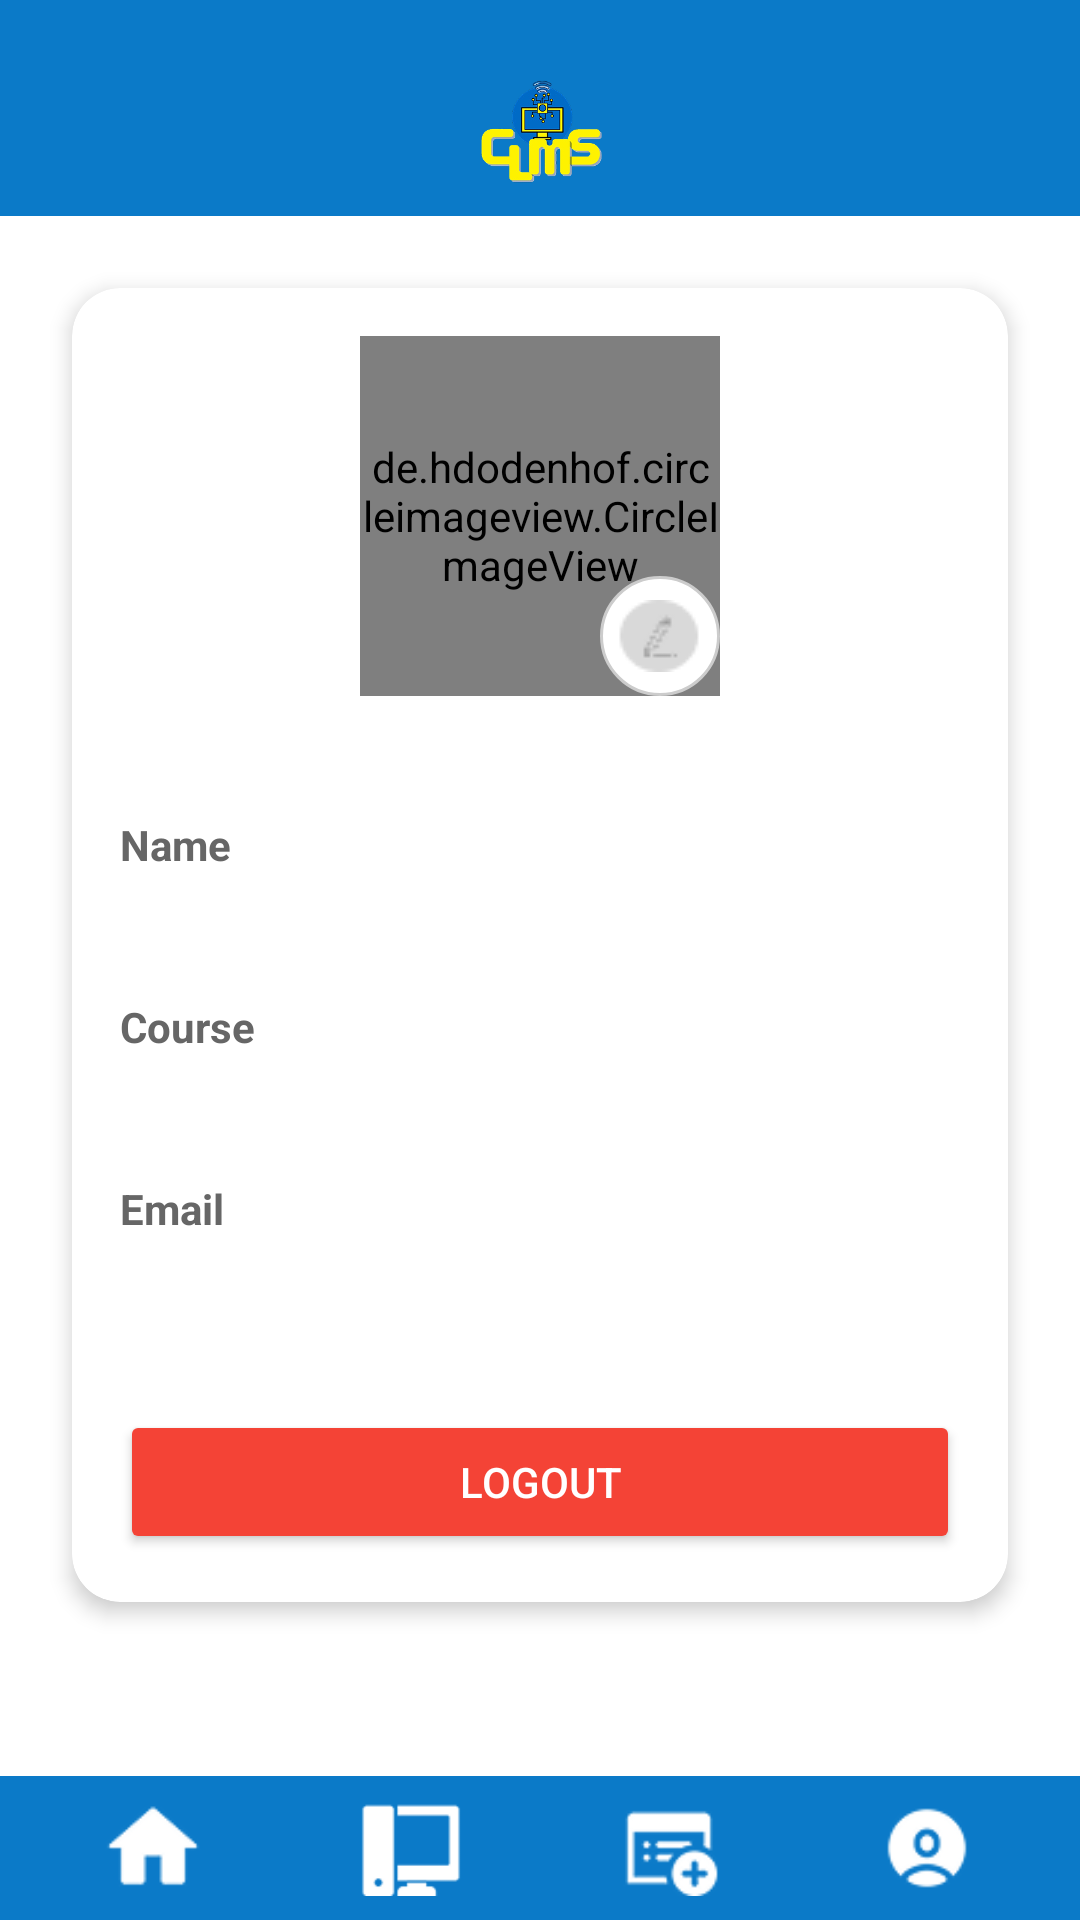

Icon click points for this 1080×1920 phone screenshot, format (x=x, y=y):
edit: (x=660, y=636)
Home: (x=153, y=1845)
Issue: (x=672, y=1853)
Profile: (x=927, y=1848)
Return to PC: (x=411, y=1850)
